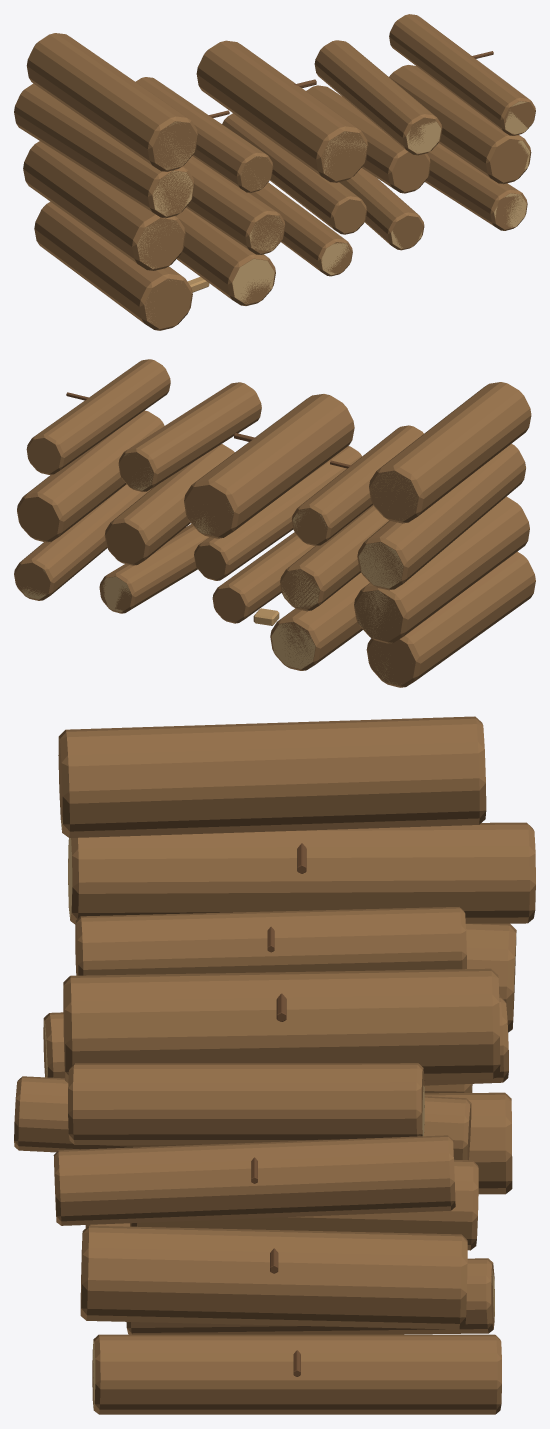
File: runtime.glb
3 views of the same model, one above another, from view 1: azimuth 30°, elevation 25°; view 2: azimuth 150°, elevation 25°; view 3: azimuth 270°, elevation 25° (orthographic). The views are drawn at different scales.
Parts seen in each view (by area): view 1: falkenwacht-woodpile-v01_nocol; view 2: falkenwacht-woodpile-v01_nocol; view 3: falkenwacht-woodpile-v01_nocol.
Part boxes in pixels (box(x1,y1,x2,y2)): falkenwacht-woodpile-v01_nocol: box(14, 14, 535, 330); falkenwacht-woodpile-v01_nocol: box(14, 359, 535, 687); falkenwacht-woodpile-v01_nocol: box(14, 716, 535, 1414).
Bounding box in the file's own units: 2.47 × 1.28 × 1.51.
